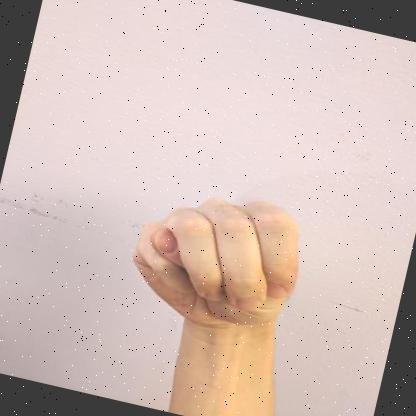M: (132, 198, 299, 327)
